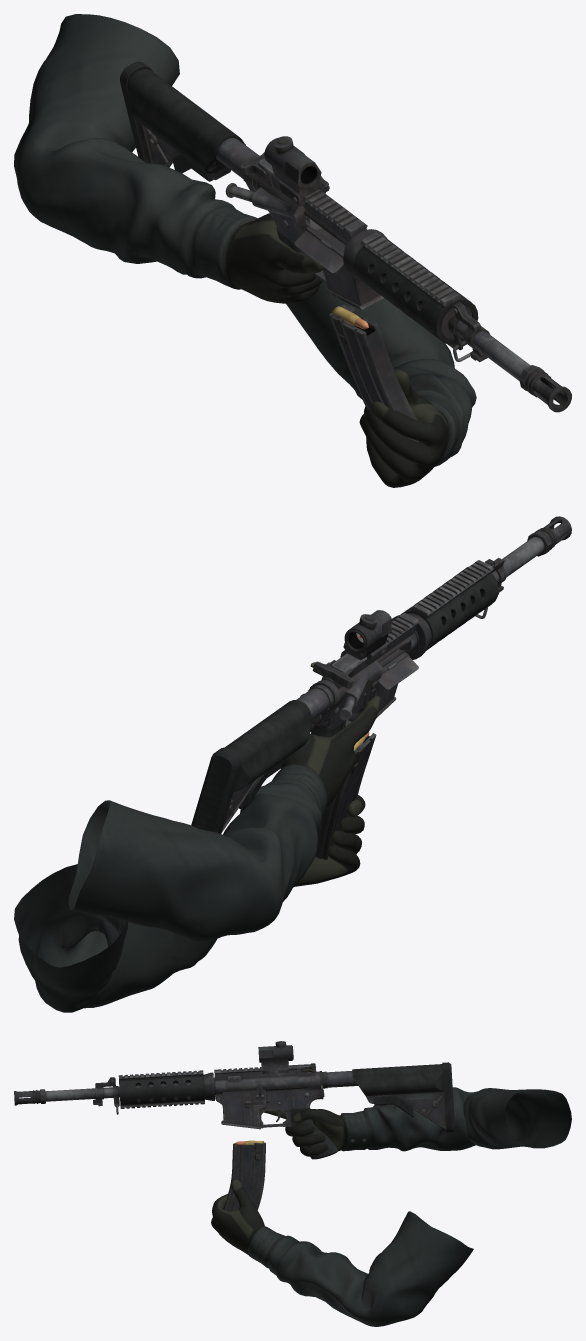
File: gun_000020.obj
3 renders of one model, top to bottom at view 1: azimuth 30°, elevation 25°; view 2: azimuth 150°, elevation 25°; view 3: azimuth 270°, elevation 25°, orthographic. The views are drawn at different scales.
Parts seen in each view (by area): view 1: armmesh_arms_0, base_carbine_0, clip_carbine_0, scope_carbine_0, lid_carbine_0; view 2: armmesh_arms_0, base_carbine_0, clip_carbine_0, scope_carbine_0, lid_carbine_0; view 3: armmesh_arms_0, base_carbine_0, clip_carbine_0, scope_carbine_0.
Boxes of the visible parts, x1,y1,x2,y2 form: armmesh_arms_0: (14,14,476,487); base_carbine_0: (120,61,571,412); clip_carbine_0: (329,304,418,441); scope_carbine_0: (264,136,329,206); lid_carbine_0: (294,230,343,273); armmesh_arms_0: (14,695,380,1012); base_carbine_0: (191,516,571,833); clip_carbine_0: (315,733,376,859); scope_carbine_0: (340,610,391,664); lid_carbine_0: (376,656,418,690); armmesh_arms_0: (211,1087,571,1326); base_carbine_0: (14,1062,454,1159); clip_carbine_0: (223,1142,265,1211); scope_carbine_0: (258,1041,293,1073).
Size of the model in its own units: 49.83 by 57.6 by 129.
